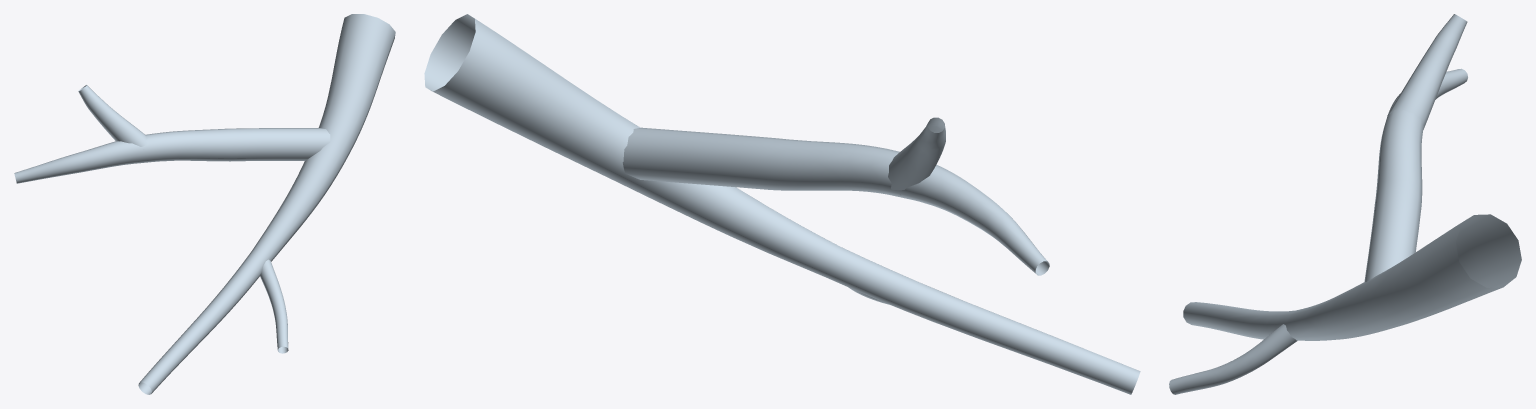
File: visceras-lateral-segmental-bronchus-of-right-lung-biv.glb
3 renders of one model, left to right at view 1: azimuth 30°, elevation 25°; view 2: azimuth 150°, elevation 25°; view 3: azimuth 270°, elevation 25°, orthographic. The views are drawn at different scales.
Parts seen in each view (by area): view 1: Lateral segmental bronchus of right lung (BIV); view 2: Lateral segmental bronchus of right lung (BIV); view 3: Lateral segmental bronchus of right lung (BIV).
Part boxes in pixels (x1,y1,x2,y2): Lateral segmental bronchus of right lung (BIV): [14, 14, 395, 394]; Lateral segmental bronchus of right lung (BIV): [424, 14, 1140, 394]; Lateral segmental bronchus of right lung (BIV): [1169, 14, 1521, 394].
Bounding box in the file's own units: 0.0805 × 0.0468 × 0.0451.
